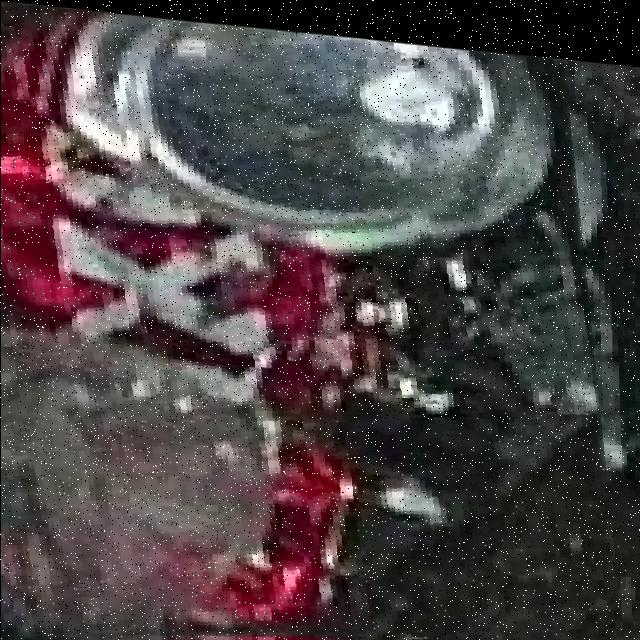can: (0, 4, 604, 635)
